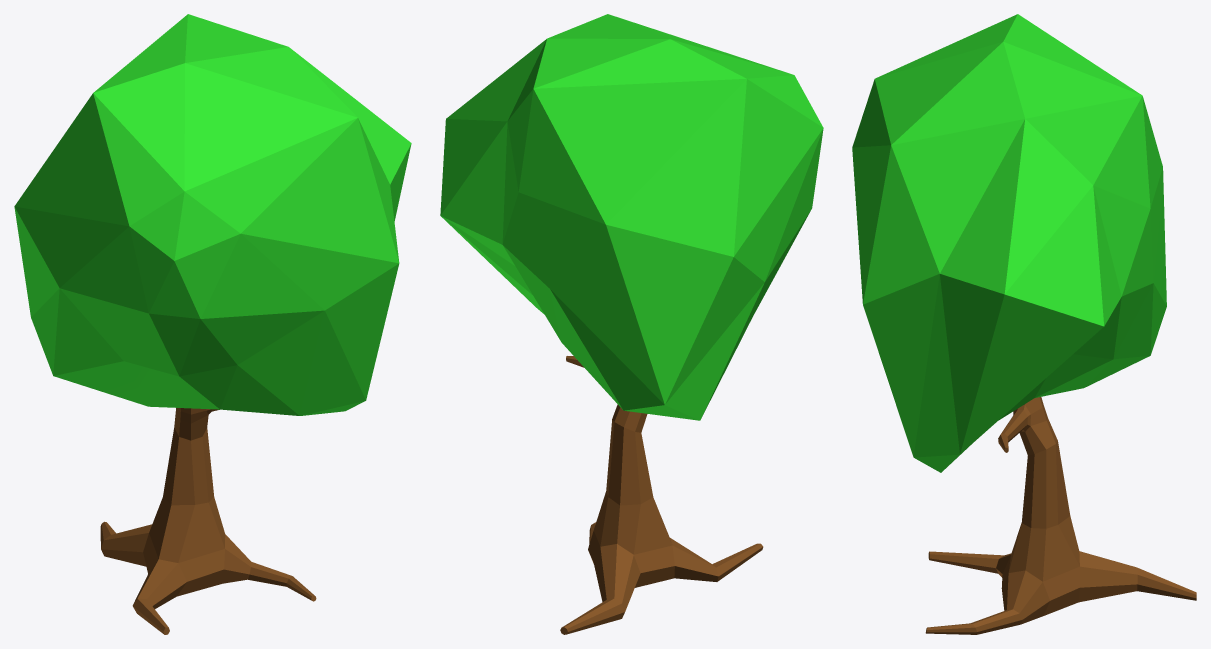
The model's file is tree02.fbx.
3 renders of one model, left to right at view 1: azimuth 30°, elevation 25°; view 2: azimuth 150°, elevation 25°; view 3: azimuth 270°, elevation 25°, orthographic. The views are drawn at different scales.
Visible parts, largest first — view 1: Tree02; view 2: Tree02; view 3: Tree02.
Boxes of the visible parts, x1,y1,x2,y2 form: Tree02: [14, 14, 411, 634]; Tree02: [440, 14, 823, 634]; Tree02: [852, 14, 1196, 634].
Bounding box in the file's own units: 656 × 983 × 555.
